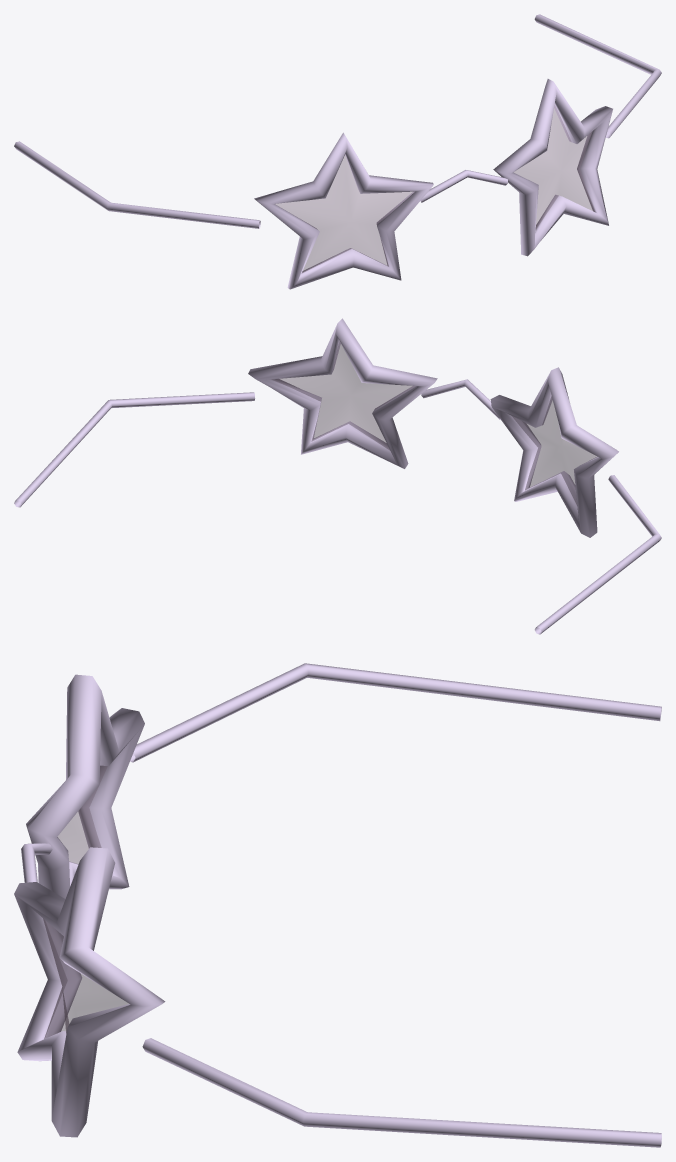
File: glasses_star_chick_tailored.glb
The picture shows the model from 3 angles, top to bottom: view 1: azimuth 30°, elevation 25°; view 2: azimuth 150°, elevation 25°; view 3: azimuth 270°, elevation 25°; orthographic projection. The views are drawn at different scales.
Visible parts, largest first — view 1: Montura.022, Montura.023, Lente ahumada.014, Lente ahumada.015, Patilla curva.022, Patilla curva.023, Puente nasal.011; view 2: Montura.023, Montura.022, Lente ahumada.015, Lente ahumada.014, Patilla curva.023, Patilla curva.022, Puente nasal.011; view 3: Montura.023, Montura.022, Patilla curva.022, Patilla curva.023, Lente ahumada.015, Lente ahumada.014, Puente nasal.011.
Boxes of the visible parts, x1,y1,x2,y2 form: Montura.022: (254,132,433,289); Montura.023: (493,79,612,256); Lente ahumada.014: (275,155,413,272); Lente ahumada.015: (514,105,594,229); Patilla curva.022: (14,141,260,228); Patilla curva.023: (534,14,661,138); Puente nasal.011: (420,170,507,202); Montura.023: (248,318,437,468); Montura.022: (490,367,618,537); Lente ahumada.015: (272,341,415,450); Lente ahumada.014: (512,396,597,505); Patilla curva.023: (14,392,255,507); Patilla curva.022: (534,475,661,634); Puente nasal.011: (421,379,500,419); Montura.023: (14,847,165,1137); Montura.022: (26,674,144,898); Patilla curva.022: (130,663,661,762); Patilla curva.023: (142,1038,661,1147); Lente ahumada.015: (43,918,128,1038); Lente ahumada.014: (57,765,107,864); Puente nasal.011: (21,843,52,882).
Bounding box in the file's own units: 0.7273 × 0.189 × 0.438.
